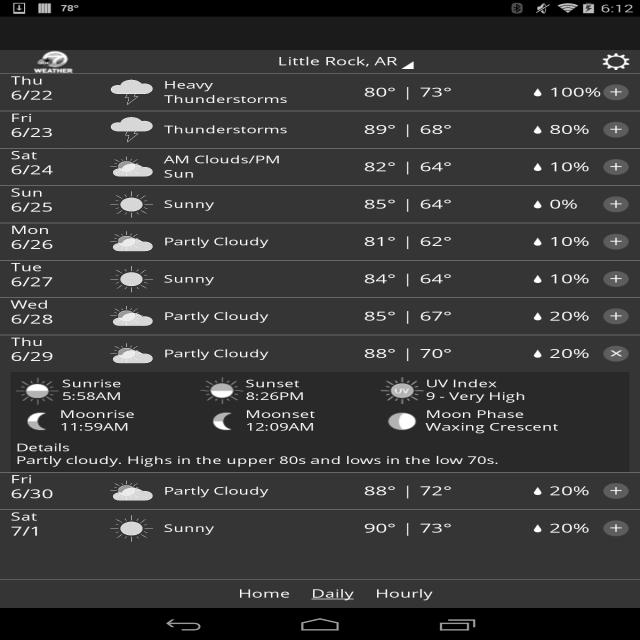ImageView: (0, 17, 640, 608), (0, 50, 107, 73), (15, 377, 60, 405), (110, 79, 153, 106), (110, 116, 153, 143), (110, 191, 153, 218), (110, 228, 153, 255), (110, 303, 153, 330), (110, 340, 153, 367), (15, 408, 58, 435), (110, 515, 153, 542), (201, 377, 243, 404), (381, 377, 423, 404), (201, 408, 243, 435), (381, 408, 423, 435), (110, 154, 153, 180), (110, 266, 153, 292), (110, 478, 153, 504), (603, 154, 629, 180), (603, 266, 629, 292), (603, 478, 629, 504), (603, 80, 629, 105), (603, 117, 629, 142), (603, 192, 629, 217), (603, 229, 629, 254), (603, 304, 629, 329), (603, 341, 629, 366), (603, 516, 629, 541), (597, 53, 635, 70), (524, 125, 549, 134), (524, 88, 549, 96), (524, 163, 549, 171), (524, 200, 549, 208), (524, 275, 549, 283), (524, 312, 549, 320), (524, 350, 549, 358), (524, 487, 549, 495), (524, 524, 549, 532), (524, 238, 549, 245)
TextView: (16, 454, 499, 467), (153, 78, 292, 105), (272, 50, 431, 73), (153, 154, 292, 180), (153, 123, 292, 136), (153, 198, 292, 211), (153, 235, 292, 248), (153, 310, 292, 323), (153, 347, 292, 360), (153, 522, 292, 535), (153, 273, 292, 285), (153, 485, 292, 497), (426, 421, 558, 433), (425, 390, 526, 403), (426, 408, 524, 421), (326, 159, 396, 175), (326, 271, 396, 287), (326, 483, 396, 499), (420, 159, 489, 175), (420, 271, 489, 287), (420, 483, 489, 499), (326, 85, 396, 100), (326, 122, 396, 137), (326, 197, 396, 212), (326, 234, 396, 249), (326, 309, 396, 324), (326, 346, 396, 361), (326, 521, 396, 536), (420, 85, 489, 100), (420, 122, 489, 137), (420, 197, 489, 212), (420, 234, 489, 249), (420, 309, 489, 324), (420, 346, 489, 361), (420, 521, 489, 536), (60, 408, 135, 421), (426, 377, 497, 390), (246, 408, 316, 421), (549, 159, 603, 175), (549, 271, 603, 287), (549, 483, 603, 499), (245, 421, 315, 433), (60, 421, 129, 433), (549, 85, 603, 100), (549, 122, 603, 137), (549, 197, 603, 212), (549, 234, 603, 249), (549, 309, 603, 324), (549, 346, 603, 361), (549, 521, 603, 536), (376, 587, 432, 601), (62, 377, 121, 390), (62, 390, 121, 403), (246, 390, 304, 403), (245, 377, 300, 390), (239, 587, 290, 601), (16, 441, 70, 454), (11, 162, 53, 178), (11, 274, 53, 290), (11, 486, 53, 502), (11, 88, 53, 103), (11, 125, 53, 140), (11, 200, 53, 215), (11, 237, 53, 252), (11, 312, 53, 327), (11, 349, 53, 364), (312, 587, 354, 601), (10, 223, 50, 237), (11, 298, 48, 312), (10, 524, 42, 539), (11, 74, 43, 88), (11, 186, 43, 200), (11, 335, 43, 349), (11, 261, 42, 274), (396, 159, 420, 175), (396, 271, 420, 287), (396, 483, 420, 499), (11, 510, 37, 524), (396, 85, 420, 100), (396, 122, 420, 137), (396, 197, 420, 212), (396, 234, 420, 249), (396, 309, 420, 324), (396, 346, 420, 361), (396, 521, 420, 536), (11, 149, 37, 162), (10, 111, 32, 125), (10, 473, 32, 486)
